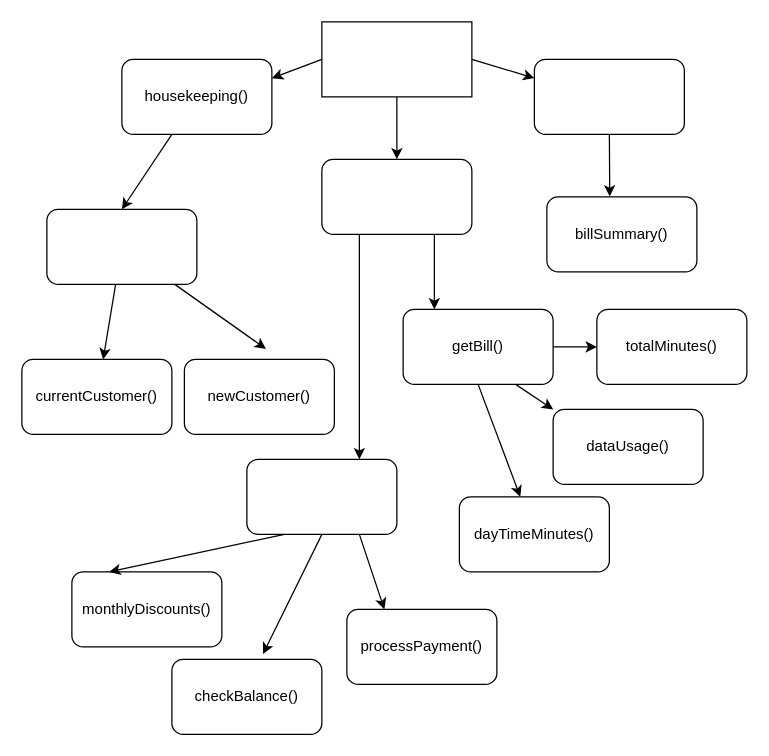
This 769x756 diagram has some shape labels left out. Here are the shapes that lost their labels. From the top down, the box of each, then its label:
(321, 21, 472, 97): Main
(533, 58, 684, 134): endOfJob()
(321, 158, 472, 234): detailLoop()
(46, 208, 197, 284): customerInfo()
(246, 458, 397, 534): payBill()
